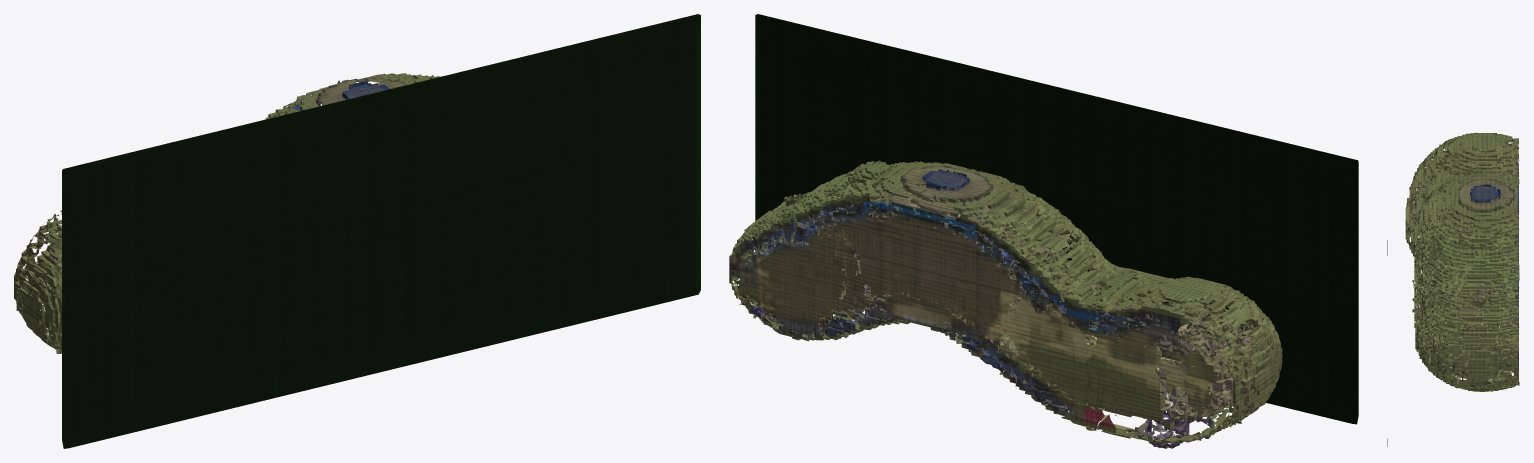
3 renders of one model, left to right at view 1: azimuth 30°, elevation 25°; view 2: azimuth 150°, elevation 25°; view 3: azimuth 270°, elevation 25°, orthographic. The views are drawn at different scales.
Parts seen in each view (by area): view 1: world; view 2: world; view 3: world.
Part boxes in pixels (x1,y1,x2,y2): world: (14,14,700,448); world: (729,14,1358,448); world: (1387,132,1519,446).
Bounding box in the file's own units: 0.973 × 0.411 × 0.2371.
Materials: 1 (1 with a texture image).
